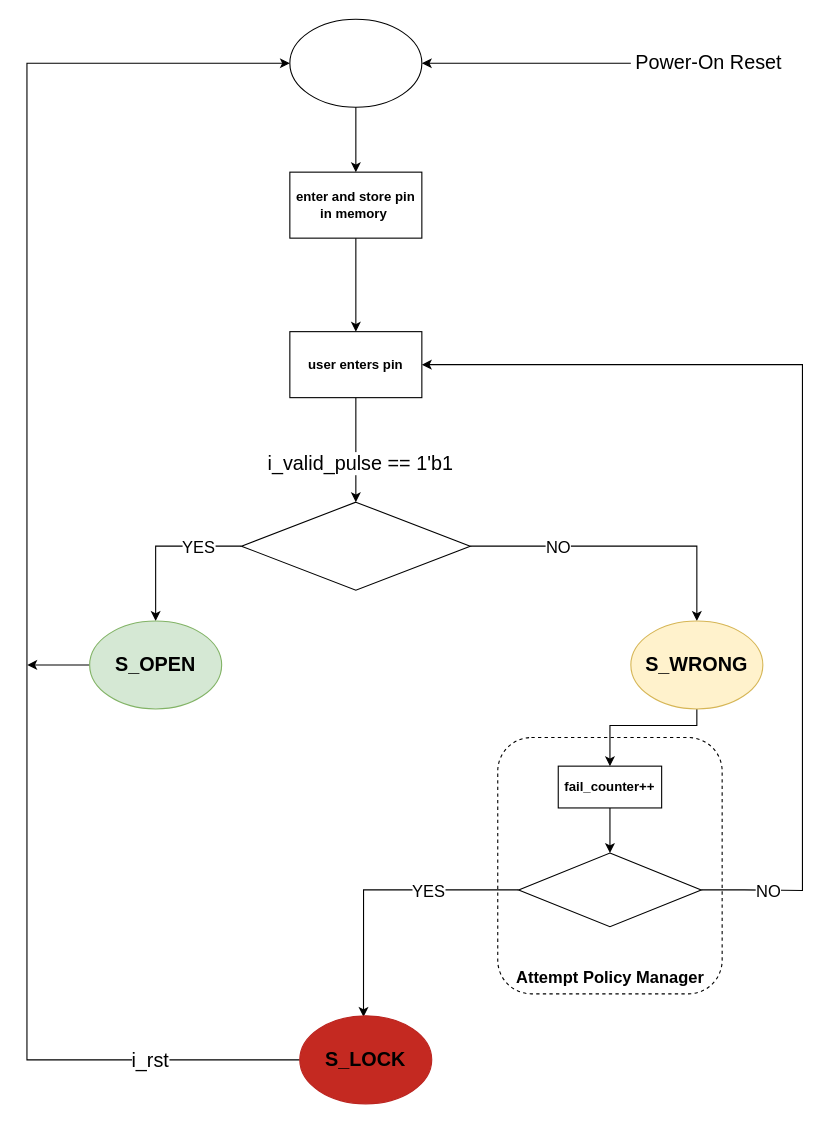
This 831x1123 diagram has some shape labels left out. Each missing label, with the box of its shape:
fail_counter == 3: (518, 852, 701, 927)
i_user_pin == i_stored_pin: (240, 501, 470, 590)
S_IDLE: (289, 18, 422, 107)
